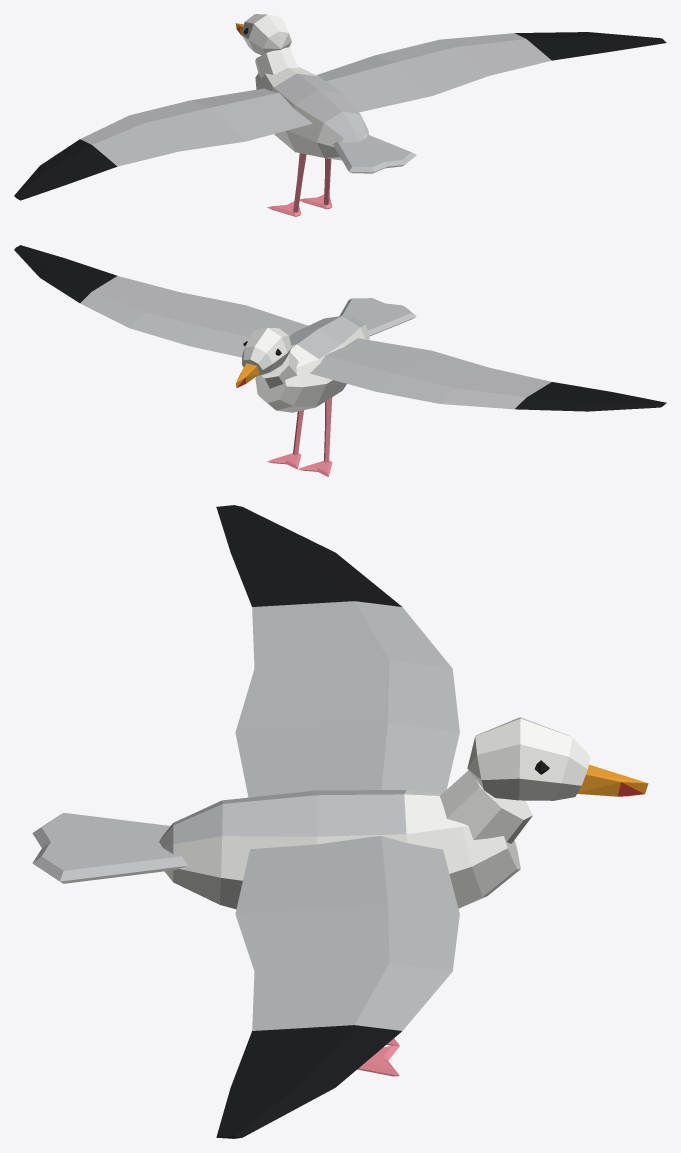
File: seagull.glb
3 renders of one model, top to bottom at view 1: azimuth 30°, elevation 25°; view 2: azimuth 150°, elevation 25°; view 3: azimuth 270°, elevation 25°, orthographic. The views are drawn at different scales.
Visible parts, largest first — view 1: seagull__wing_l, seagull__wing_r, seagull__body, seagull__head, seagull__tail; view 2: seagull__wing_l, seagull__wing_r, seagull__body, seagull__head, seagull__tail; view 3: seagull__wing_r, seagull__wing_l, seagull__body, seagull__head, seagull__tail.
Boxes of the visible parts, <box> form: seagull__wing_l: <box>14,88,312,200</box>; seagull__wing_r: <box>316,32,666,112</box>; seagull__body: <box>255,67,368,216</box>; seagull__head: <box>235,14,298,78</box>; seagull__tail: <box>333,134,416,173</box>; seagull__wing_l: <box>310,338,666,411</box>; seagull__wing_r: <box>14,245,307,357</box>; seagull__body: <box>255,316,369,476</box>; seagull__head: <box>235,327,298,388</box>; seagull__tail: <box>339,298,416,336</box>; seagull__wing_r: <box>216,836,459,1138</box>; seagull__wing_l: <box>216,505,459,797</box>; seagull__body: <box>159,790,520,1076</box>; seagull__head: <box>440,717,648,843</box>; seagull__tail: <box>32,812,188,883</box>.
Bounding box in the file's own units: 1.25 × 0.3058 × 0.516.
Materials: 1 (1 with a texture image).
